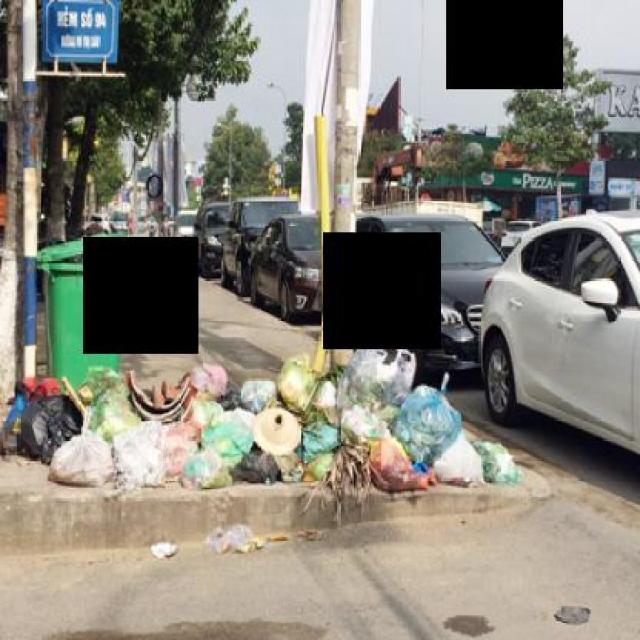plastic bag: (11, 337, 520, 538), (386, 378, 463, 476), (44, 417, 119, 500), (337, 342, 415, 418), (14, 380, 81, 465)
